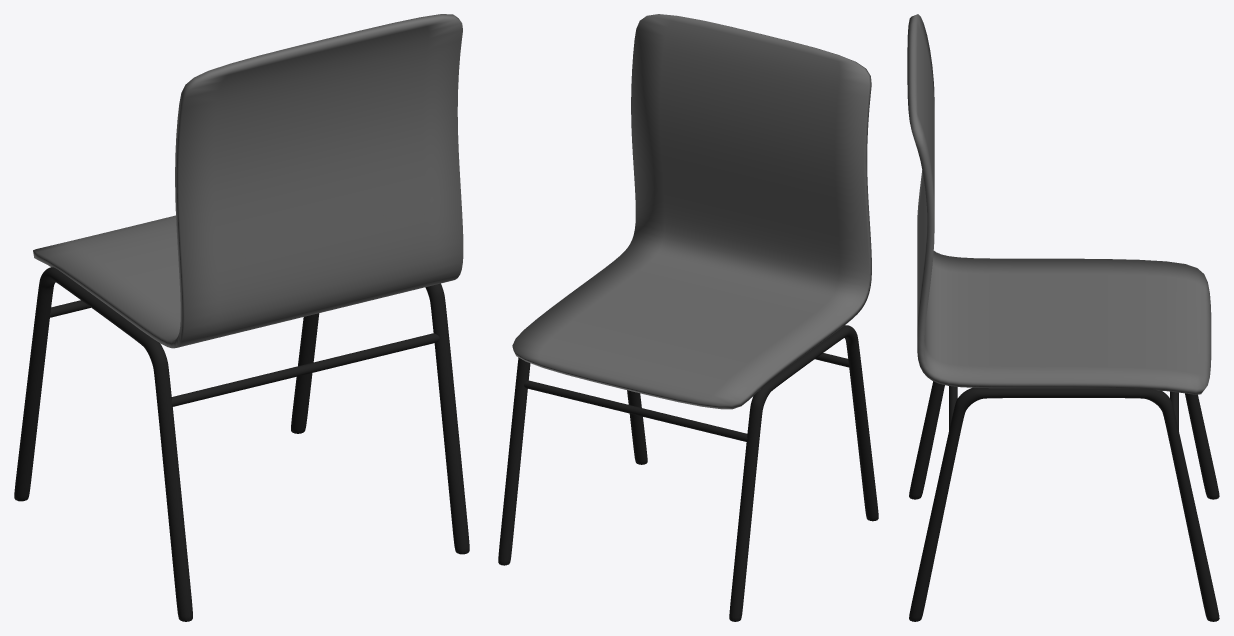
Rendered from Chair29.fbx.
3 renders of one model, left to right at view 1: azimuth 30°, elevation 25°; view 2: azimuth 150°, elevation 25°; view 3: azimuth 270°, elevation 25°, orthographic. The views are drawn at different scales.
Visible parts, largest first — view 1: Chair29; view 2: Chair29; view 3: Chair29.
Boxes of the visible parts, x1,y1,x2,y2 form: Chair29: (14,14,469,621); Chair29: (498,14,878,621); Chair29: (907,14,1219,621).
Size of the model in its own units: 49.44 by 89.12 by 50.84.
